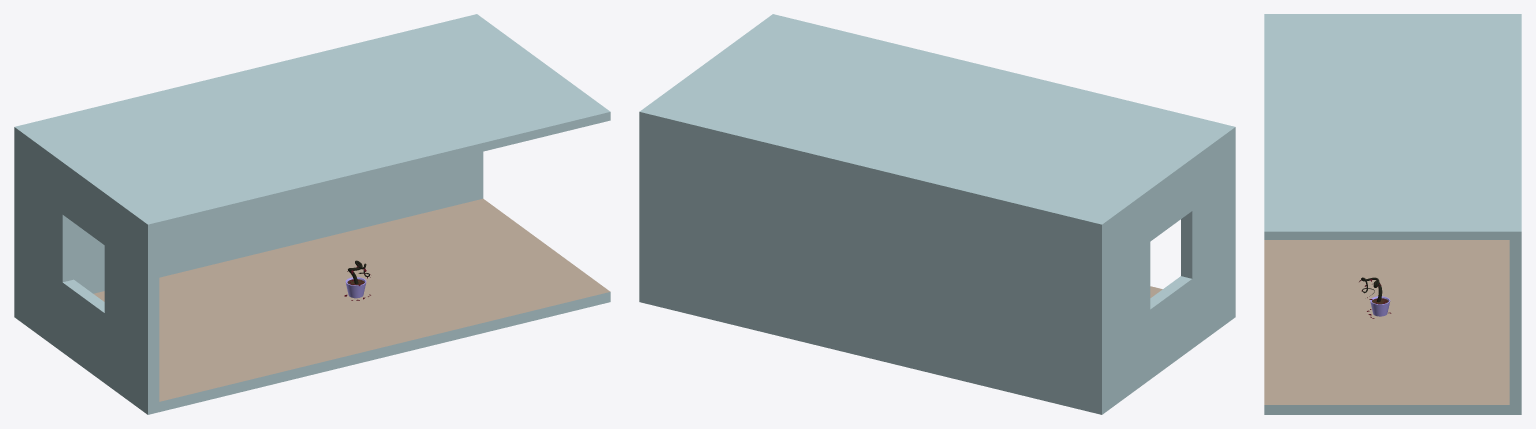
Rendered from Plantita_pocha 1.fbx.
The picture shows the model from 3 angles, left to right: view 1: azimuth 30°, elevation 25°; view 2: azimuth 150°, elevation 25°; view 3: azimuth 270°, elevation 25°; orthographic projection. The views are drawn at different scales.
Visible parts, largest first — view 1: Base_habitacion; view 2: Base_habitacion; view 3: Base_habitacion, Maceta.001.
Part boxes in pixels (x1,y1,x2,y2): Base_habitacion: [14, 14, 610, 414]; Base_habitacion: [639, 14, 1235, 414]; Base_habitacion: [1264, 14, 1521, 414]; Maceta.001: [1359, 279, 1391, 318].
Bounding box in the file's own units: 8 × 3.14 × 4.
